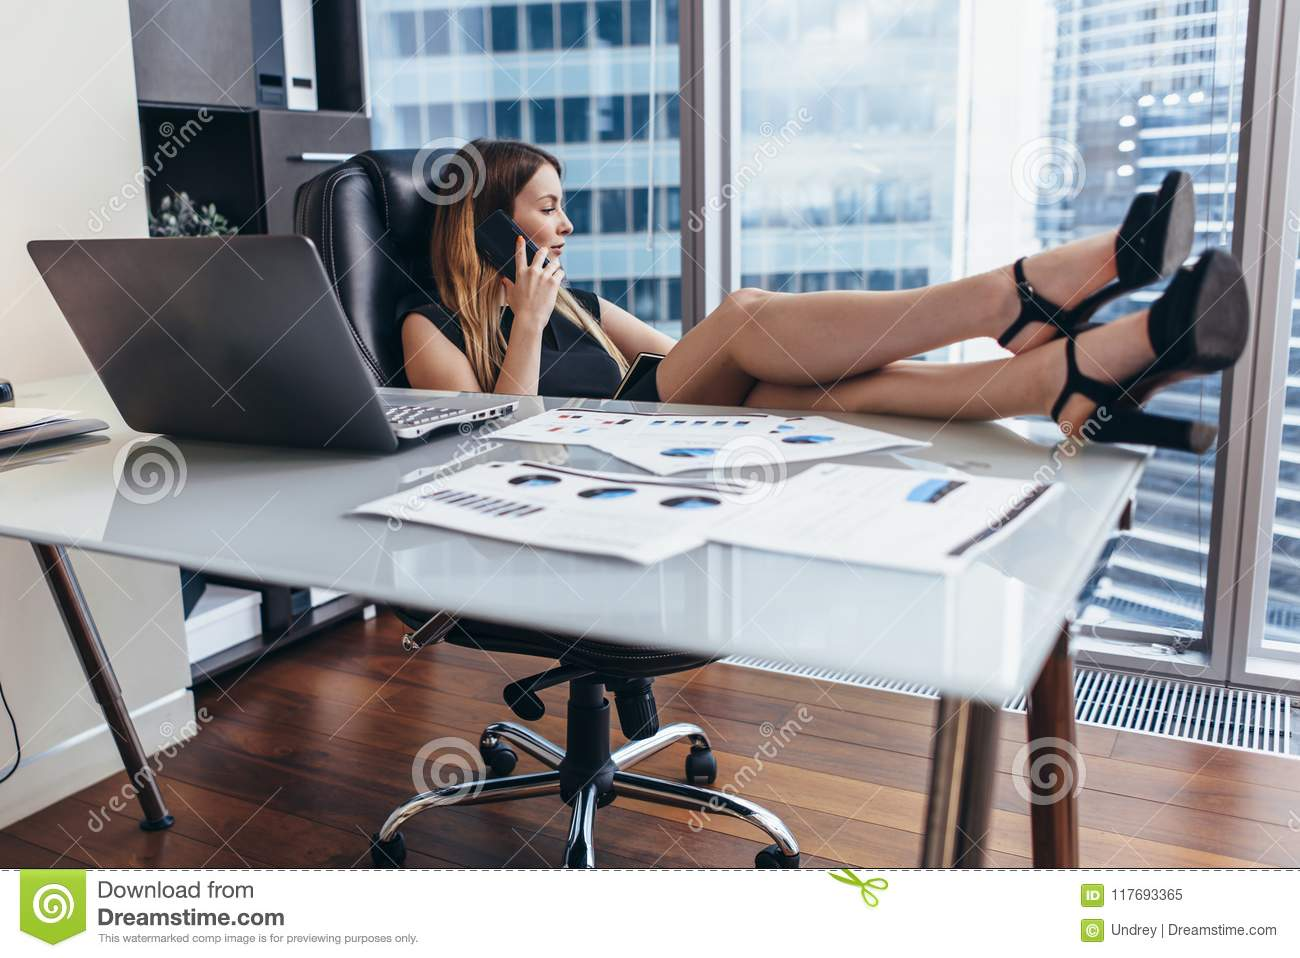phone: (475, 208, 552, 286)
talk: (474, 191, 574, 338)
